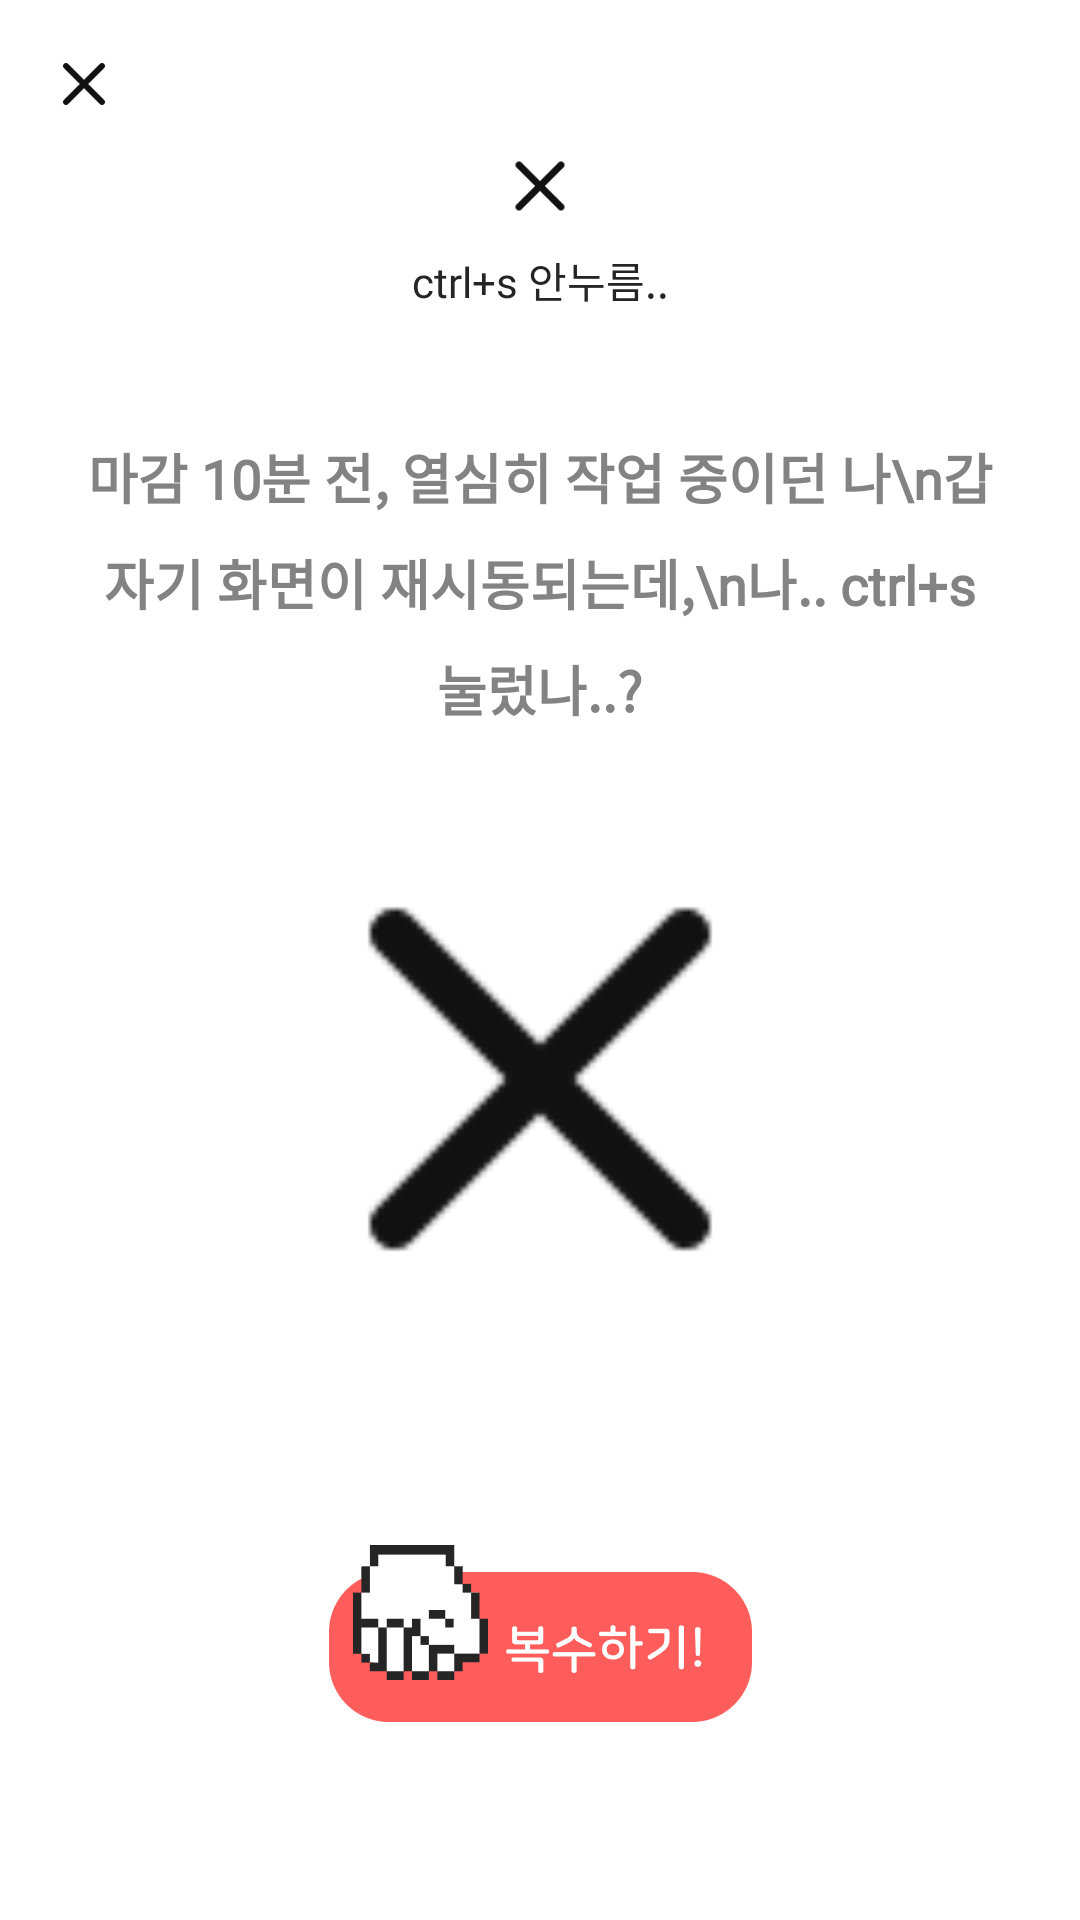

Named icons in this screenshot (1080 x 1920) and their bounding boxes, (x1, y1, x2, y2):
quit: (63, 63, 105, 105), (515, 161, 565, 211), (368, 907, 712, 1251)
